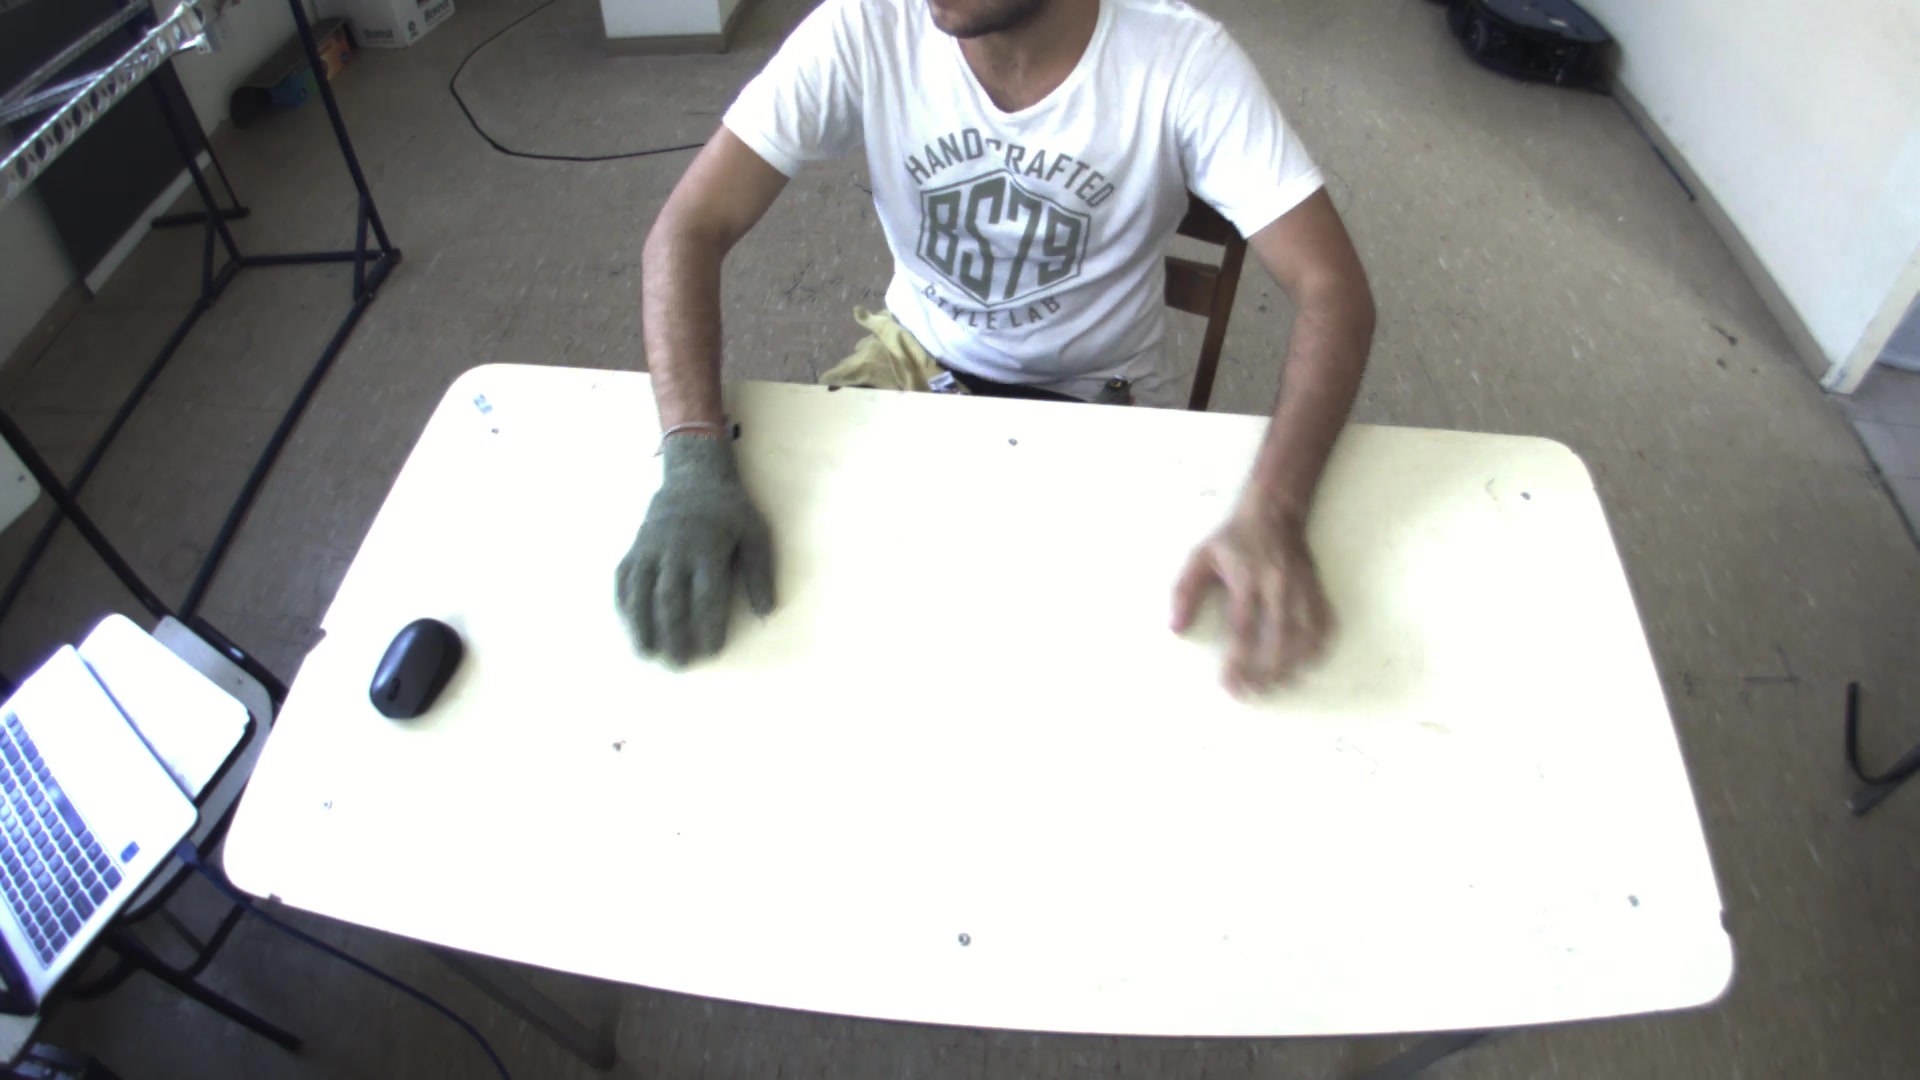hand: (599, 415, 786, 670), (1159, 487, 1342, 700)
